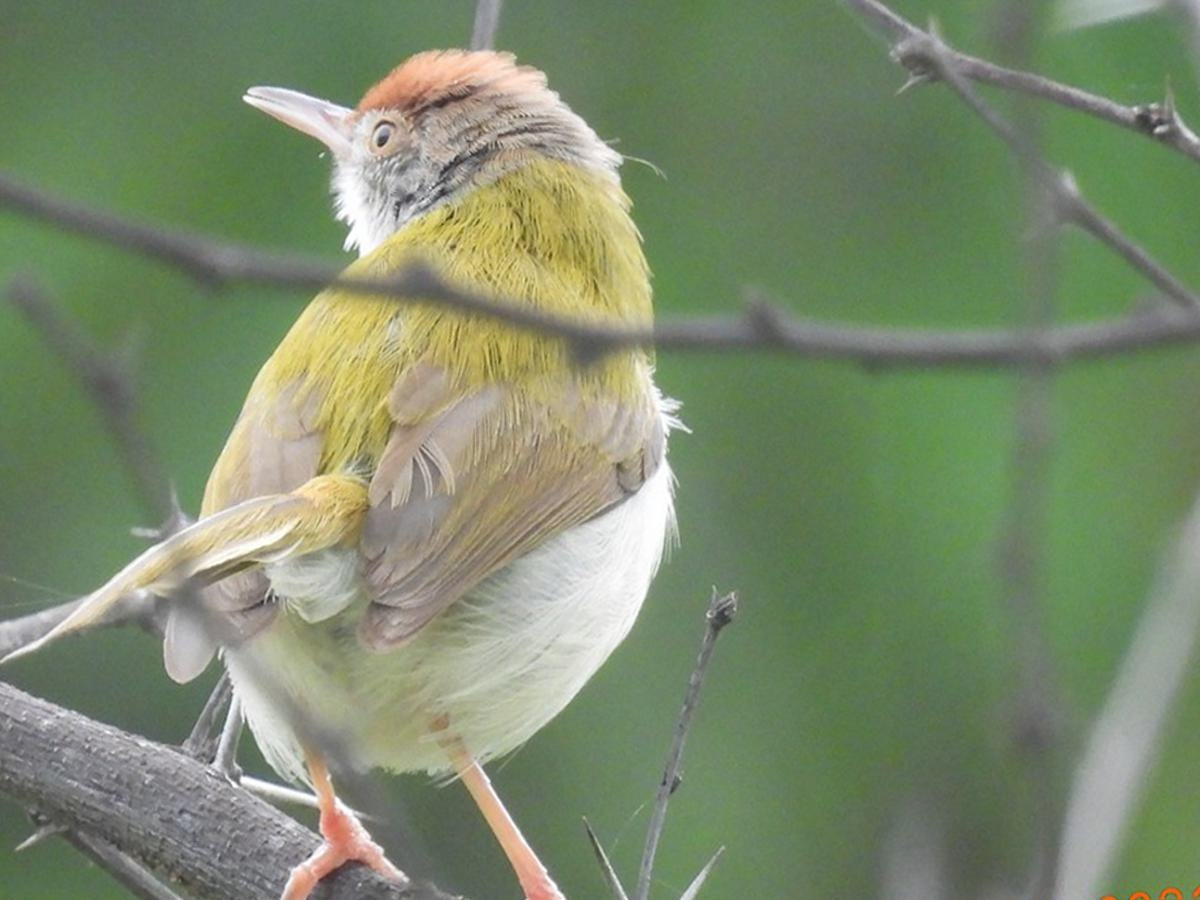tailorbird: (144, 46, 631, 891)
